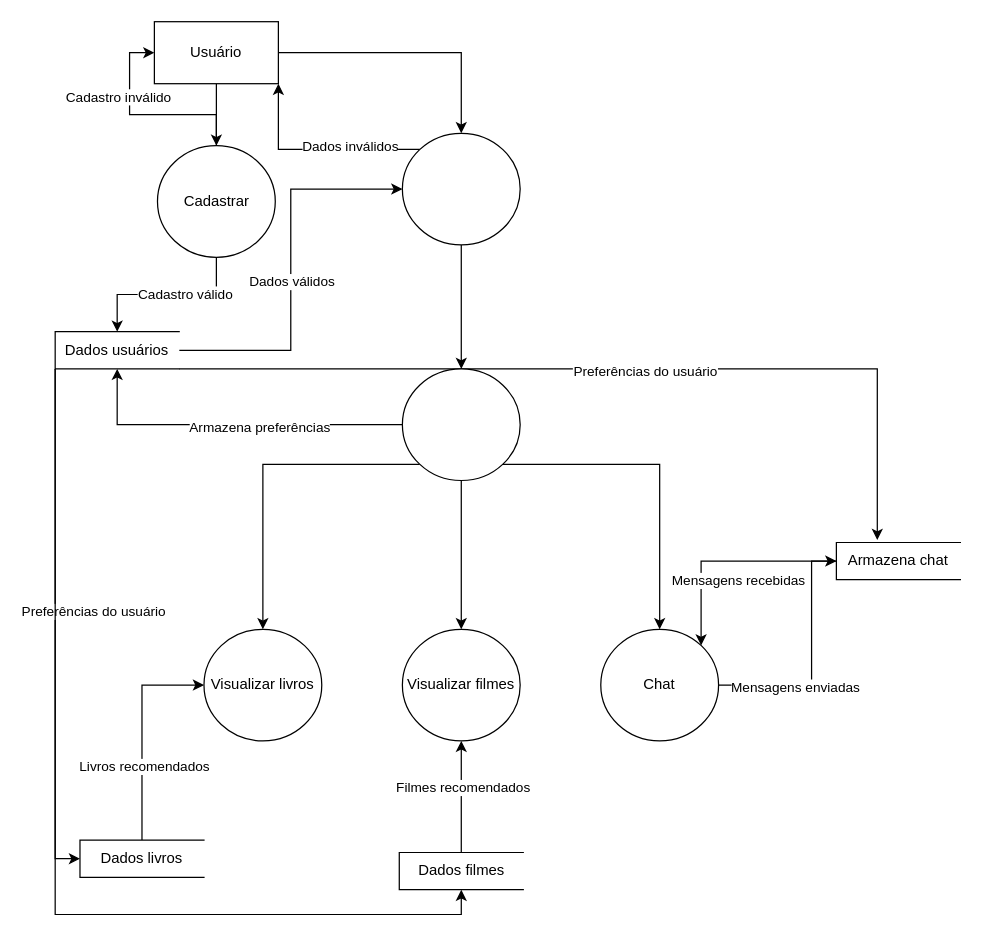
Image size: 982x946. Some labels were removed from this diagram. Each missing label, with the centre of its shape:
"Escolher preferências" belongs at (460,424).
"Login" belongs at (460,188).
